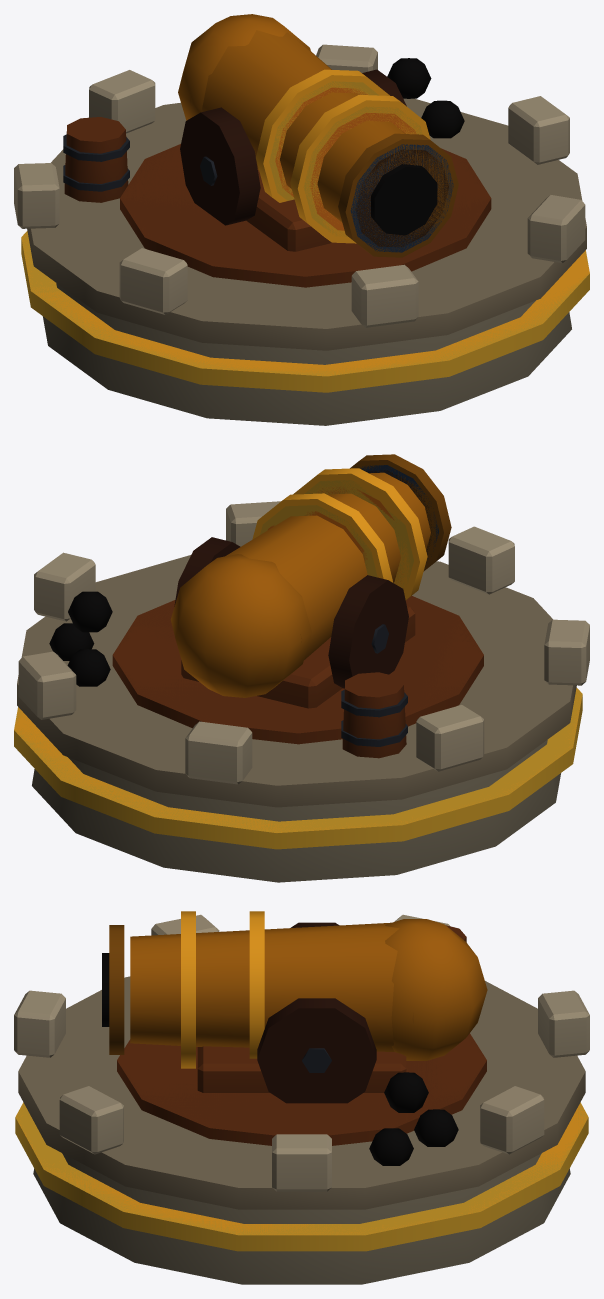
File: b_cannon.glb
3 views of the same model, one above another, from view 1: azimuth 30°, elevation 25°; view 2: azimuth 150°, elevation 25°; view 3: azimuth 270°, elevation 25° (orthographic).
Visible parts, largest first — view 1: cannon_t1_body, cannon_t3__barrel, cannon_t2_body, cannon_t1__turret, cannon_t3_body, cannon_t1__barrel, cannon_t2__barrel, cannon_t3__turret; view 2: cannon_t1_body, cannon_t3__barrel, cannon_t2_body, cannon_t1__turret, cannon_t3_body, cannon_t2__barrel, cannon_t1__barrel; view 3: cannon_t1_body, cannon_t3__barrel, cannon_t2_body, cannon_t1__turret, cannon_t2__turret, cannon_t3_body.
Boxes of the visible parts, bbox=[...] form: cannon_t1_body: bbox=[14, 44, 586, 425]; cannon_t3__barrel: bbox=[178, 14, 458, 257]; cannon_t2_body: bbox=[21, 144, 589, 392]; cannon_t1__turret: bbox=[180, 69, 406, 251]; cannon_t3_body: bbox=[21, 234, 589, 376]; cannon_t1__barrel: bbox=[275, 87, 448, 247]; cannon_t2__barrel: bbox=[269, 81, 453, 252]; cannon_t3__turret: bbox=[180, 113, 239, 224]; cannon_t1_body: bbox=[17, 501, 589, 882]; cannon_t3__barrel: bbox=[170, 454, 451, 697]; cannon_t2_body: bbox=[14, 596, 582, 849]; cannon_t1__turret: bbox=[174, 537, 415, 708]; cannon_t3_body: bbox=[14, 689, 581, 832]; cannon_t2__barrel: bbox=[260, 465, 438, 587]; cannon_t1__barrel: bbox=[268, 470, 431, 581]; cannon_t1_body: bbox=[14, 914, 589, 1284]; cannon_t3__barrel: bbox=[102, 911, 487, 1068]; cannon_t2_body: bbox=[15, 1034, 588, 1251]; cannon_t1__turret: bbox=[197, 922, 406, 1103]; cannon_t2__turret: bbox=[257, 1008, 375, 1103]; cannon_t3_body: bbox=[15, 1102, 587, 1235].
Bounding box in the file's own units: 1.91 × 0.9445 × 1.93.
